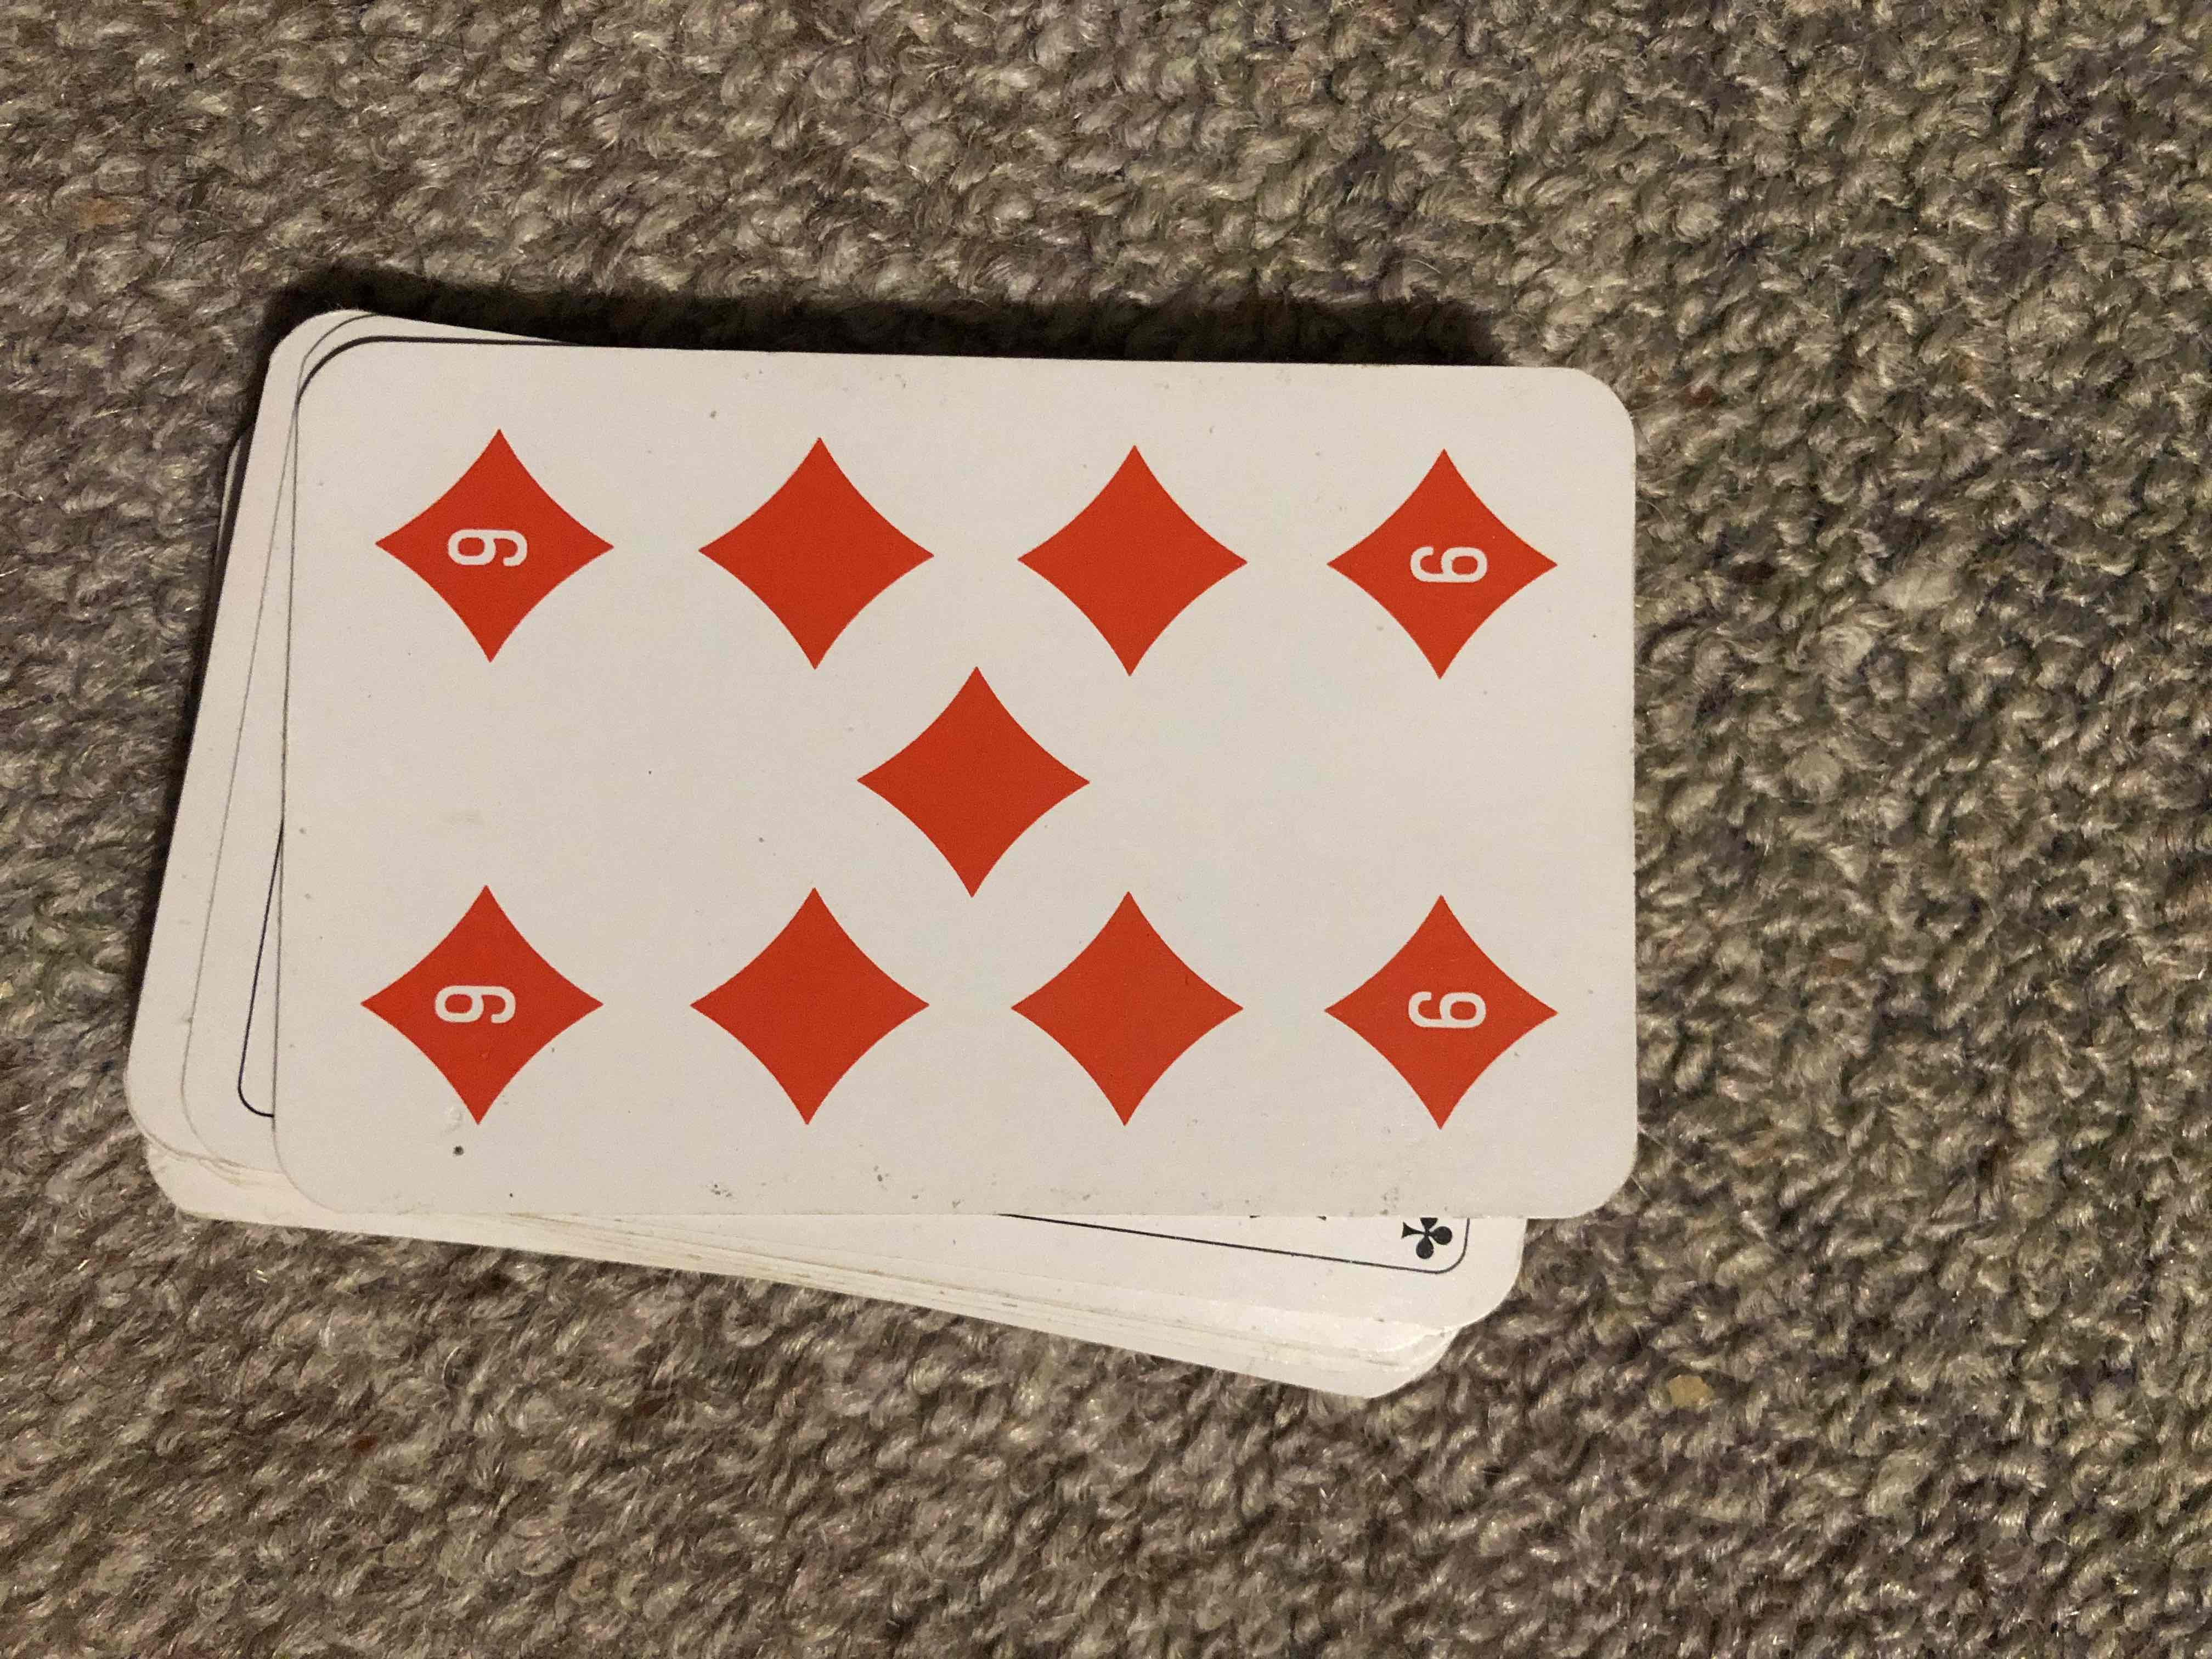diamond9: (282, 343, 1629, 1208)
